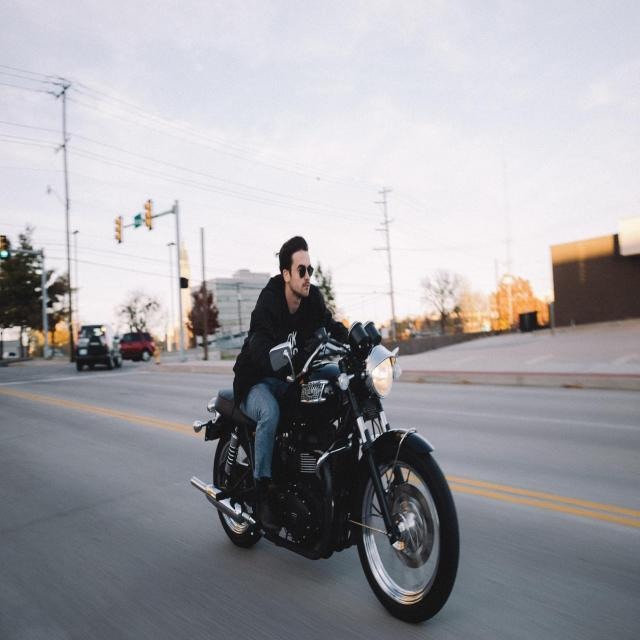No helmet: (264, 225, 329, 308)
